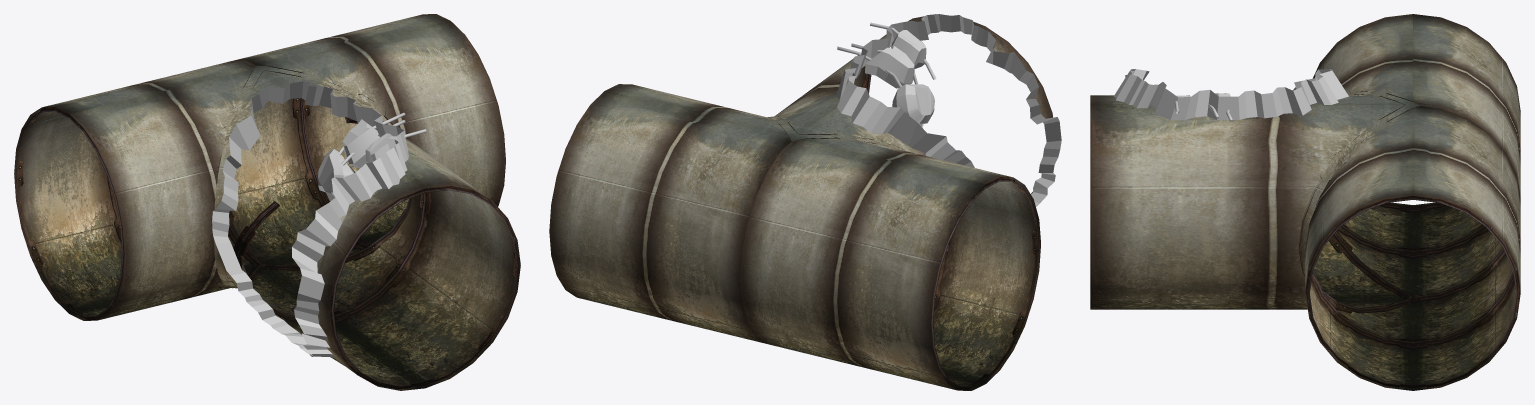
Rendered from flush_tunnel_02_07_3way_broken.dae.
The picture shows the model from 3 angles, left to right: view 1: azimuth 30°, elevation 25°; view 2: azimuth 150°, elevation 25°; view 3: azimuth 270°, elevation 25°; orthographic projection. The views are drawn at different scales.
Visible parts, largest first — view 1: polySurface1100, polySurface1092, polySurface1096, polySurface1054, polySurface1044, polySurface1038; view 2: polySurface1100, polySurface1092, polySurface1096, polySurface1054, polySurface1044, polySurface1038; view 3: polySurface1100, polySurface1096, polySurface1092.
Boxes of the visible parts, bbox=[...] form: polySurface1100: bbox=[14, 14, 520, 390]; polySurface1092: bbox=[212, 81, 408, 357]; polySurface1096: bbox=[16, 60, 517, 388]; polySurface1054: bbox=[342, 119, 379, 168]; polySurface1044: bbox=[318, 149, 353, 201]; polySurface1038: bbox=[365, 133, 392, 162]; polySurface1100: bbox=[549, 14, 1052, 390]; polySurface1092: bbox=[836, 14, 1061, 206]; polySurface1096: bbox=[768, 73, 1038, 389]; polySurface1054: bbox=[865, 46, 914, 88]; polySurface1044: bbox=[892, 84, 934, 124]; polySurface1038: bbox=[891, 30, 926, 68]; polySurface1100: bbox=[1090, 14, 1520, 390]; polySurface1096: bbox=[1298, 91, 1520, 387]; polySurface1092: bbox=[1113, 69, 1348, 119].
Bounding box in the file's own units: 8 × 4.47 × 8.
